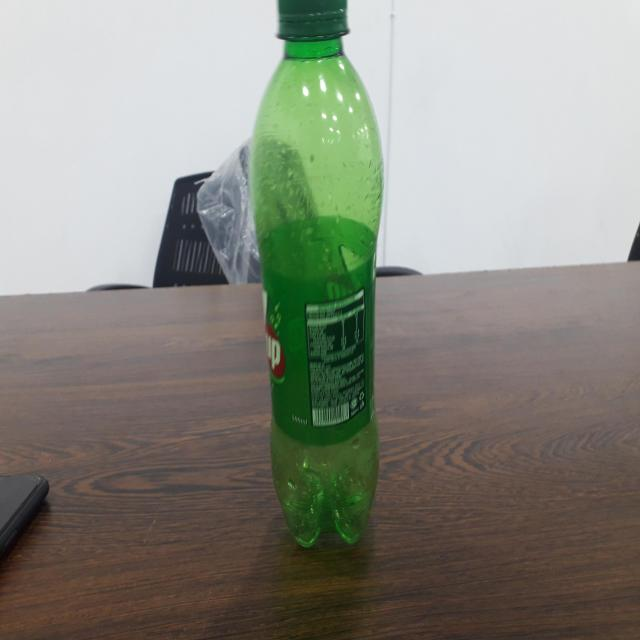bottle-plastic: (249, 0, 386, 552)
